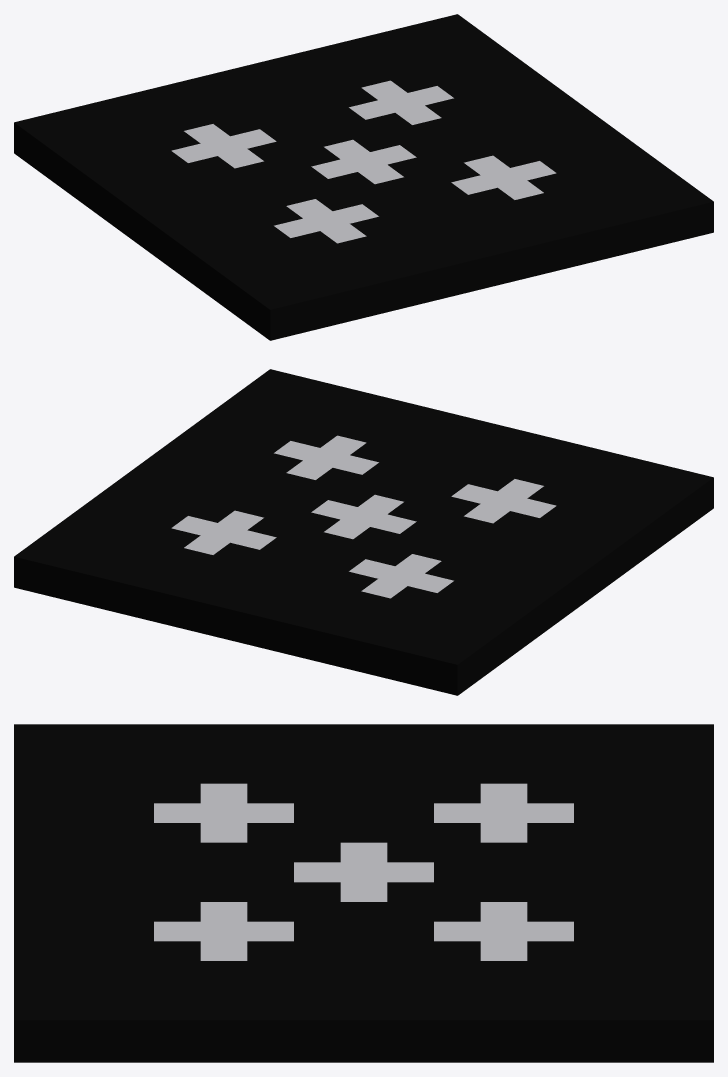
The model's file is dungeon_d_a_ground_a_b.obj.
3 views of the same model, one above another, from view 1: azimuth 30°, elevation 25°; view 2: azimuth 150°, elevation 25°; view 3: azimuth 270°, elevation 25° (orthographic). The views are drawn at different scales.
Bounding box in the file's own units: 1.5 × 0.1 × 1.5.
Materials: 1 (1 with a texture image).
